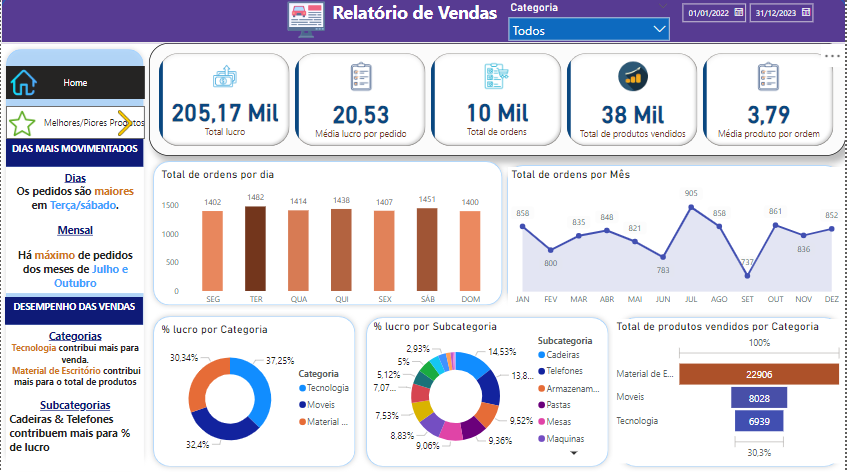

This screenshot's page, from the dashboard's own definition file:
{"tool":"powerbi","page":{"name":"Home","canvas":[1280,720],"ordinal":0},"visuals":[{"type":"shape","box":[0,71.2,223.7,649.2],"z":0},{"type":"cardVisual","fields":{"Data":["Pedidos.Total lucro","Pedidos.Média de valor por pedido","Pedidos.Total de pedidos","Pedidos.Total de produtos vendidos","Pedidos.Média de produto por ordem"]},"box":[223.7,69.5,1055.9,171.2],"z":1000},{"type":"shape","box":[0,0,1280.4,69.6],"z":2000},{"type":"textbox","box":[412.7,0,428.8,68.8],"z":3000},{"type":"image","box":[256.1,0,412.7,68.8],"z":4000},{"type":"shape","box":[223.2,241.1,544.6,233.9],"z":5000},{"type":"columnChart","title":"Total de ordens por dia","fields":{"Category":["Pedidos.Ordens dia"],"Y":["Pedidos.Total de ordens"]},"box":[237.5,257.1,521.4,217.9],"z":6000},{"type":"shape","box":[758.9,246.4,521.4,228.6],"z":7000},{"type":"areaChart","title":"Total de ordens por Mês","fields":{"Category":["Pedidos.Ordem mes"],"Y":["Pedidos.Total de ordens"]},"box":[767.9,257.1,512.5,217.9],"z":8000},{"type":"shape","box":[223.4,475,321.9,243.8],"z":9000},{"type":"shape","box":[928.1,476.6,351.6,242.2],"z":10000},{"type":"shape","box":[545.3,476.6,382.8,242.2],"z":11000},{"type":"donutChart","title":"% lucro por Categoria","fields":{"Category":["Pedidos.Categoria"],"Y":["Pedidos.Total lucro"]},"box":[237.5,492.2,307.8,214.1],"z":12000},{"type":"donutChart","title":"% lucro por Subcategoria","fields":{"Y":["Pedidos.Total lucro"],"Category":["Pedidos.Subcategoria"]},"box":[559.4,487.5,367.2,215.6],"z":13000},{"type":"funnel","fields":{"Category":["Pedidos.Categoria"],"Y":["Pedidos.Total de produtos vendidos"]},"box":[927.1,488.1,352.5,218.6],"z":14000},{"type":"textbox","box":[7.8,215.6,207.8,42.2],"z":15000},{"type":"textbox","box":[7.8,257.8,209.4,190.6],"z":16000},{"type":"textbox","box":[6.2,454.7,209.4,42.2],"z":17000},{"type":"textbox","box":[7.8,496.9,209.4,221.9],"z":18000},{"type":"slicer","fields":{"Values":["Pedidos.Categoria"]},"box":[759.4,0,264.1,68.8],"z":19000},{"type":"slicer","fields":{"Values":["Pedidos.Data_do_Pedido"]},"box":[1020.3,0,259.4,68.8],"z":20000},{"type":"pageNavigator","box":[7.6,104.5,210.6,50],"z":20001},{"type":"pageNavigator","box":[6.9,165.7,210.8,50],"z":20002},{"type":"image","box":[160.8,166.7,54.9,49],"z":20003},{"type":"image","box":[7.8,104.9,54.9,50],"z":20004},{"type":"image","box":[5.9,166.7,52.9,50],"z":20005}]}

Visuals, with their boxes on the page's 1280x720 design canvas (x1, y1, x2, y2). These are canvas units, not pixel positions in the 847x472 screenshot, which may show the page scaled, cropped or inside an application window:
shape: locate(0, 71, 224, 720)
cardVisual - Pedidos.Total lucro x Pedidos.Média de valor por pedido: locate(224, 70, 1280, 241)
shape: locate(0, 0, 1280, 70)
textbox: locate(413, 0, 842, 69)
image: locate(256, 0, 669, 69)
shape: locate(223, 241, 768, 475)
"Total de ordens por dia" columnChart: locate(238, 257, 759, 475)
shape: locate(759, 246, 1280, 475)
"Total de ordens por Mês" areaChart: locate(768, 257, 1280, 475)
shape: locate(223, 475, 545, 719)
shape: locate(928, 477, 1280, 719)
shape: locate(545, 477, 928, 719)
"% lucro por Categoria" donutChart: locate(238, 492, 545, 706)
"% lucro por Subcategoria" donutChart: locate(559, 488, 927, 703)
funnel - Pedidos.Categoria x Pedidos.Total de produtos vendidos: locate(927, 488, 1280, 707)
textbox: locate(8, 216, 216, 258)
textbox: locate(8, 258, 217, 448)
textbox: locate(6, 455, 216, 497)
textbox: locate(8, 497, 217, 719)
slicer - Pedidos.Categoria: locate(759, 0, 1024, 69)
slicer - Pedidos.Data_do_Pedido: locate(1020, 0, 1280, 69)
pageNavigator: locate(8, 104, 218, 154)
pageNavigator: locate(7, 166, 218, 216)
image: locate(161, 167, 216, 216)
image: locate(8, 105, 63, 155)
image: locate(6, 167, 59, 217)
